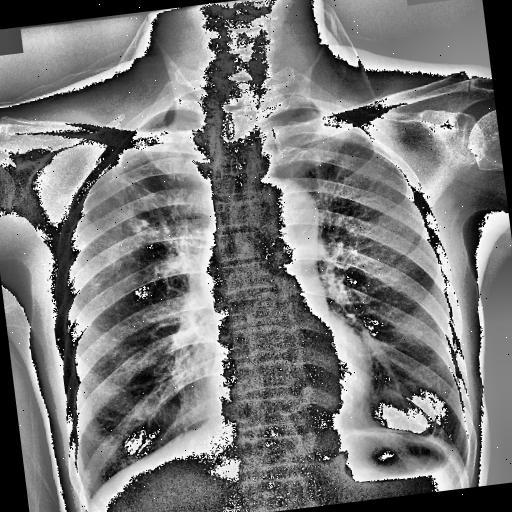0- Aortic enlargement: (229, 175, 325, 255), (256, 172, 324, 250)
13- Pulmonary fibrosis: (109, 178, 198, 268), (102, 158, 178, 258), (112, 174, 151, 234), (418, 409, 450, 446), (424, 405, 452, 442), (424, 411, 445, 444)
